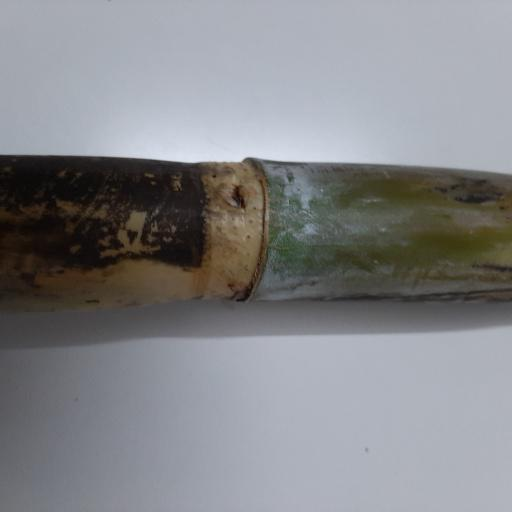Damage_Bud: (216, 183, 249, 212)
